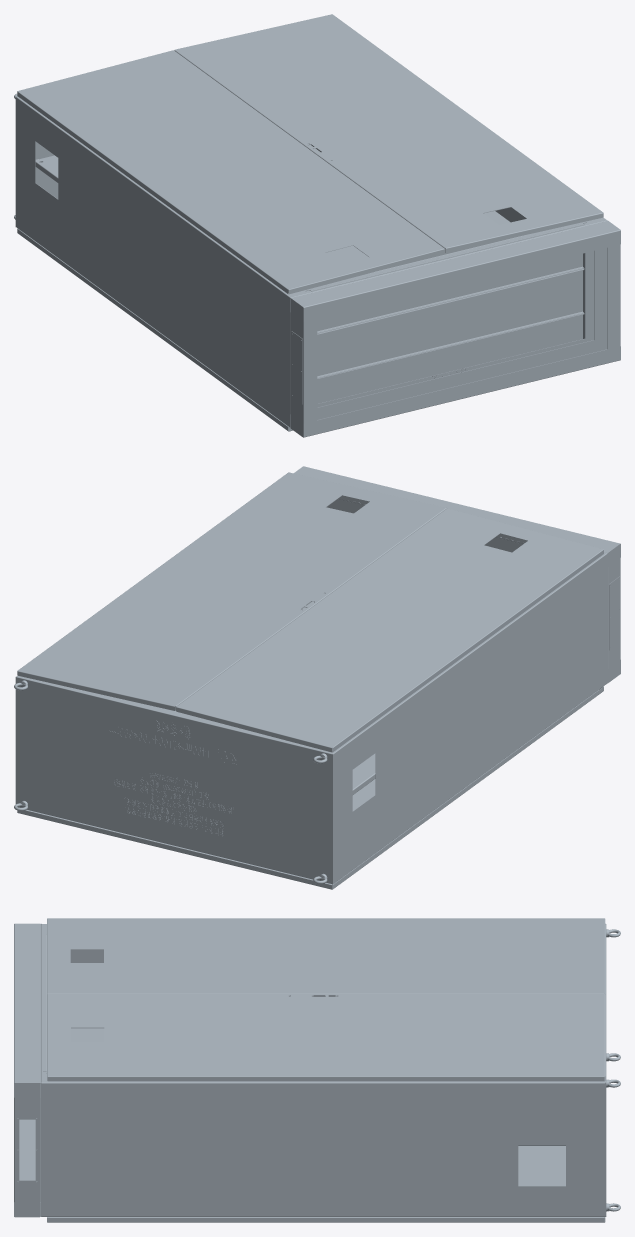
Rendered from res_1789357979365_kq8jp_威图柜.glb.
3 renders of one model, top to bottom at view 1: azimuth 30°, elevation 25°; view 2: azimuth 150°, elevation 25°; view 3: azimuth 270°, elevation 25°, orthographic. The views are drawn at different scales.
Parts seen in each view (by area): view 1: ES____ (×5), Mesh39, Mesh66 (×3), Mesh4 (×2), Mesh7 (×2), Mesh96, ____^________; view 2: ES____ (×4), Mesh39, Mesh4, Mesh7, ____^________, Mesh96, Mesh66; view 3: ES____ (×4), Mesh39, Mesh4 (×2), Mesh7, Mesh96, Mesh66.
Part boxes in pixels (left/top/right/bottom): ES____ (×5): left=15, top=14, right=607, bottom=431; Mesh39: left=17, top=50, right=444, bottom=294; Mesh66 (×3): left=306, top=222, right=586, bottom=403; Mesh4 (×2): left=290, top=221, right=620, bottom=437; Mesh7 (×2): left=290, top=244, right=620, bottom=437; Mesh96: left=35, top=144, right=510, bottom=264; ____^________: left=291, top=331, right=302, bottom=404; ES____ (×4): left=15, top=472, right=607, bottom=889; Mesh39: left=176, top=508, right=603, bottom=752; Mesh4: left=294, top=466, right=620, bottom=566; Mesh7: left=608, top=544, right=620, bottom=682; ____^________: left=609, top=576, right=620, bottom=650; Mesh96: left=301, top=593, right=375, bottom=794; Mesh66: left=326, top=499, right=522, bottom=552; ES____ (×4): left=41, top=924, right=606, bottom=1222; Mesh39: left=47, top=918, right=605, bottom=993; Mesh4 (×2): left=14, top=923, right=40, bottom=1217; Mesh7: left=14, top=1082, right=40, bottom=1217; Mesh96: left=71, top=1028, right=565, bottom=1145; Mesh66: left=43, top=932, right=46, bottom=1073.
Size of the model in its own units: 1.4 by 0.6125 by 2.25.
